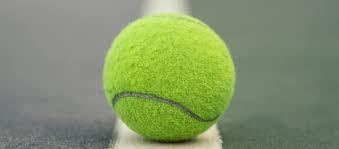tennis_ball: (102, 12, 237, 144)
